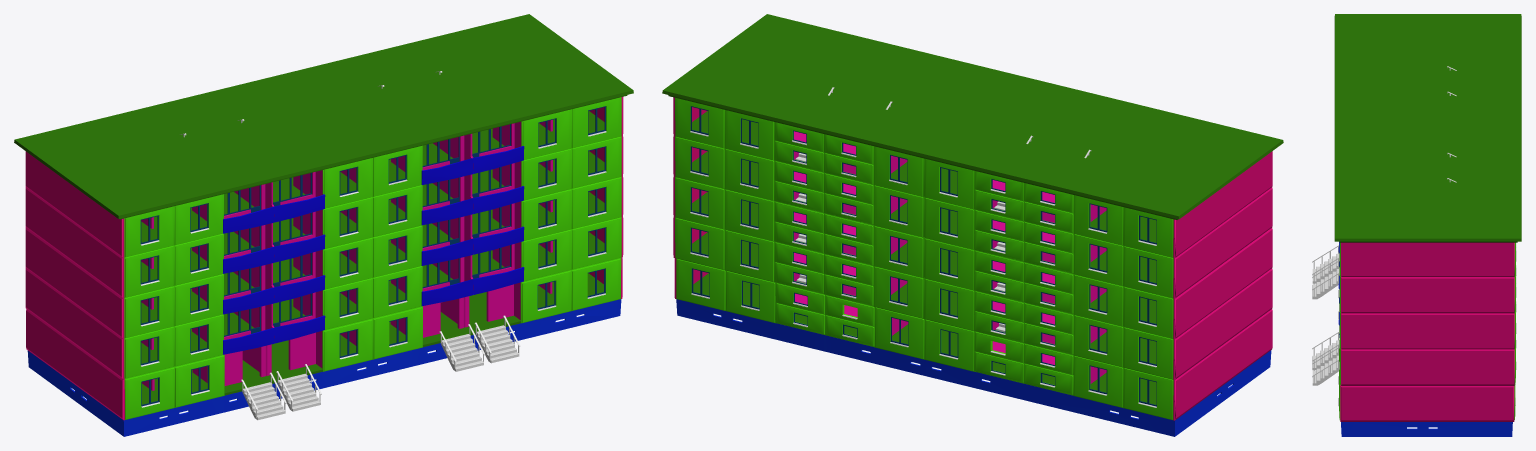
Rendered from blockhouse.gltf.
3 views of the same model, side by side, from view 1: azimuth 30°, elevation 25°; view 2: azimuth 150°, elevation 25°; view 3: azimuth 270°, elevation 25° (orthographic). The views are drawn at different scales.
Visible parts, largest first — view 1: roof-s0.001, roof-s0.002, roof-s1.002, roof-s1.001, Box402.001, Box402.005, Box402.007, Box318.002, Box321.002, Box402.009, Box407.003, Box407.002 (+81 smaller); view 2: roof-s0.001, roof-s0.002, roof-s1.002, roof-s1.001, Box390.001, Box390.005, Box407.002, Box390.003, Box390.004, Box407.003, Box390.007, Box390.006 (+27 smaller); view 3: roof-s0.002, roof-s0.001, roof-s1.001, roof-s1.002, Box402.003, Box402.004, Box402.006, Box318.003, Box402.008, Box321.003, Box322.003, Box386.002 (+2 smaller).
Boxes of the visible parts, x1,y1,x2,y2 form: roof-s0.001: (14, 101, 276, 219); roof-s0.002: (372, 14, 633, 132); roof-s1.002: (272, 52, 475, 157); roof-s1.001: (172, 77, 375, 181); Box402.001: (25, 268, 124, 378); Box402.005: (25, 227, 124, 338); Box402.007: (25, 187, 124, 297); Box318.002: (26, 309, 124, 420); Box321.002: (27, 350, 273, 436); Box402.009: (25, 151, 124, 257); Box407.003: (520, 258, 621, 323); Box407.002: (124, 354, 224, 419); roof-s0.001: (1020, 101, 1283, 219); roof-s0.002: (662, 14, 924, 133); roof-s1.002: (820, 52, 1024, 157); roof-s1.001: (920, 77, 1124, 182); Box390.001: (1024, 302, 1173, 379); Box390.005: (1024, 262, 1173, 338); Box407.002: (1024, 343, 1173, 419); Box390.003: (675, 217, 823, 293); Box390.004: (675, 177, 823, 253); Box407.003: (676, 258, 825, 334); Box390.007: (1024, 221, 1173, 297); Box390.006: (675, 136, 823, 212); roof-s0.002: (1334, 170, 1521, 242); roof-s0.001: (1334, 14, 1521, 83); roof-s1.001: (1334, 82, 1521, 127); roof-s1.002: (1334, 126, 1521, 171); Box402.003: (1341, 349, 1514, 385); Box402.004: (1341, 313, 1514, 349); Box402.006: (1341, 277, 1514, 313); Box318.003: (1340, 385, 1514, 421); Box402.008: (1341, 242, 1514, 276); Box321.003: (1341, 422, 1512, 436); Box322.003: (1312, 355, 1338, 385); Box386.002: (1312, 269, 1338, 299).
Bounding box in the file's own units: 34.08 × 14.58 × 13.39.
